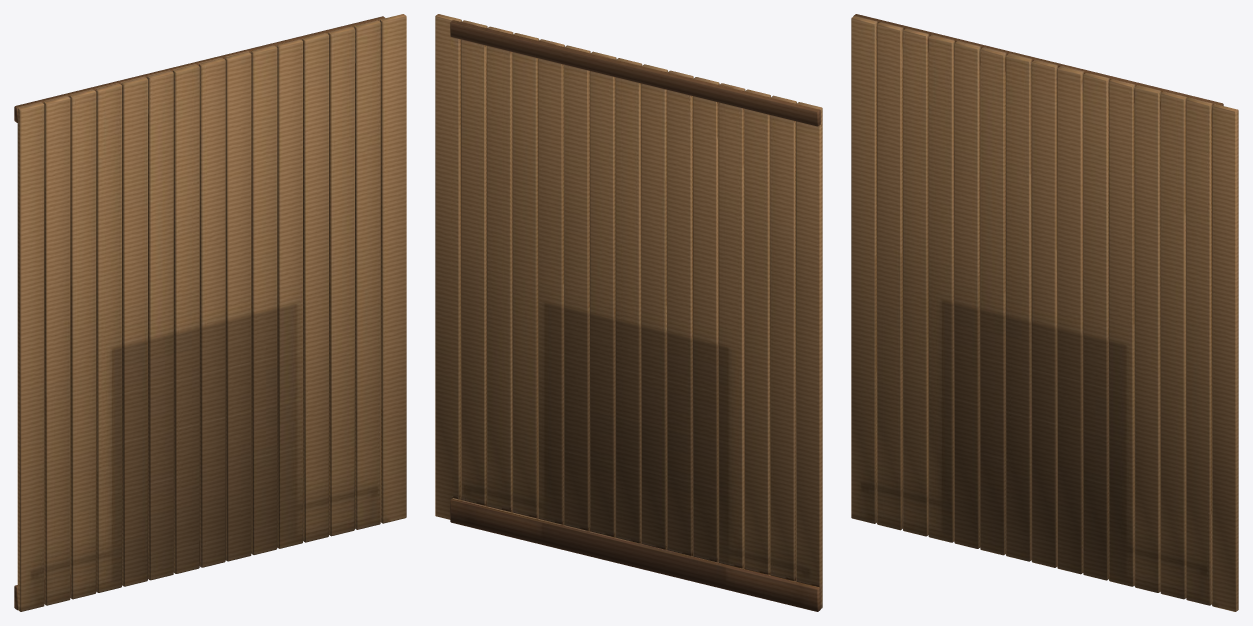
Rendered from wall_boards.glb.
The picture shows the model from 3 angles, left to right: view 1: azimuth 30°, elevation 25°; view 2: azimuth 150°, elevation 25°; view 3: azimuth 330°, elevation 25°; orthographic projection.
Visible parts, largest first — view 1: prop_wall_boards_wood; view 2: prop_wall_boards_wood; view 3: prop_wall_boards_wood.
Part boxes in pixels (x1=…): prop_wall_boards_wood: x1=14, y1=14, x2=406, y2=611; prop_wall_boards_wood: x1=435, y1=14, x2=822, y2=611; prop_wall_boards_wood: x1=851, y1=14, x2=1238, y2=611.
Size of the model in its own units: 4.19 by 5.2 by 0.11.
1 material, 1 textured.
